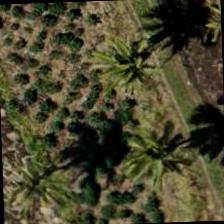Kelapa_Sawit: (119, 105, 212, 198), (74, 11, 166, 104), (1, 135, 90, 223)
